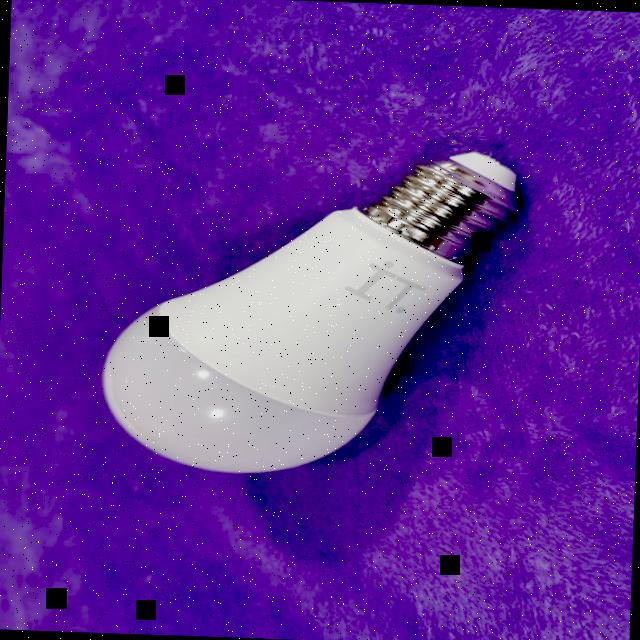light_bulb: (67, 122, 544, 502)
